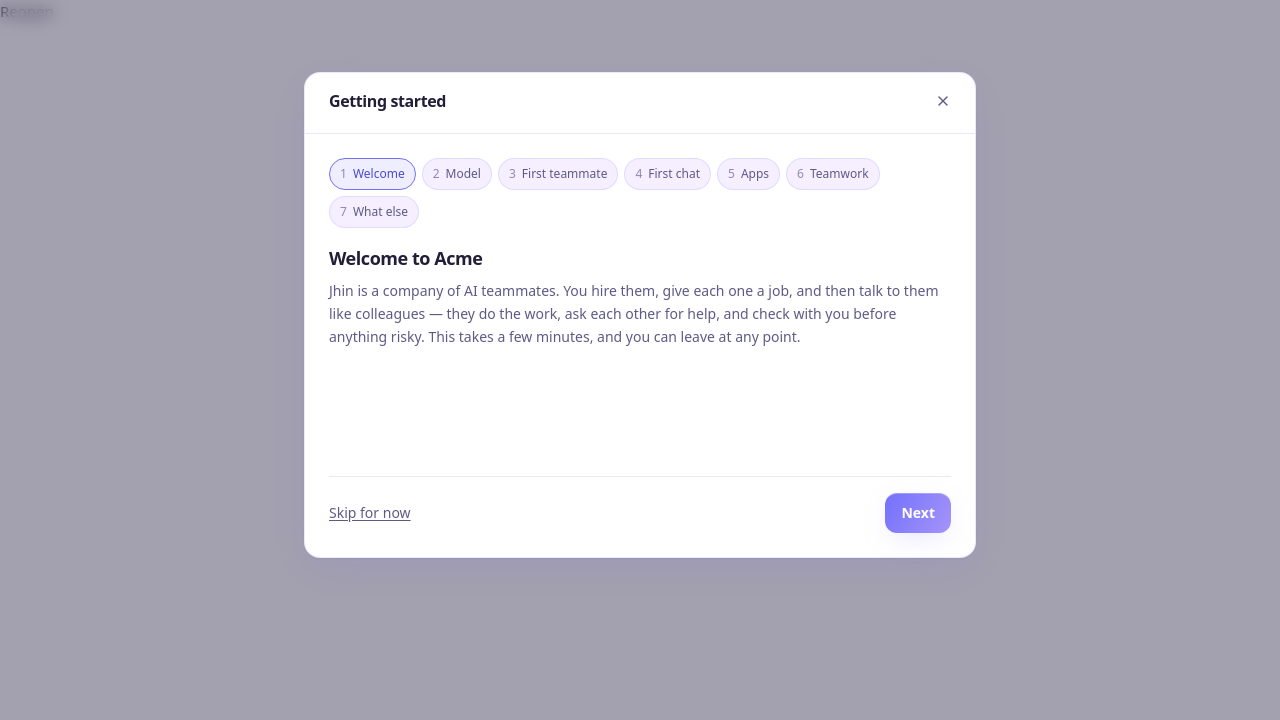
it: walking through it › moves focus to the step it just opened
Click the button "Next" at (918, 513), box [886,493,951,533]
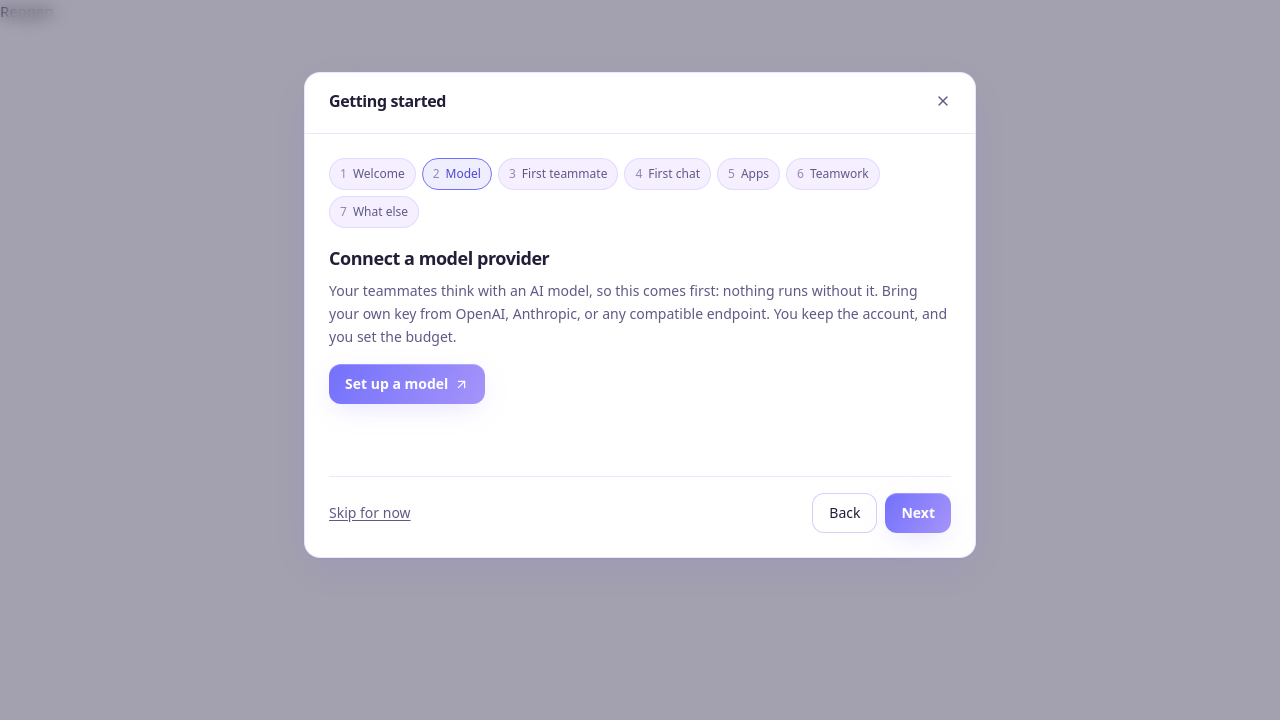
Expected: the heading "Connect a model provider" is shown, [329,244,549,272]
